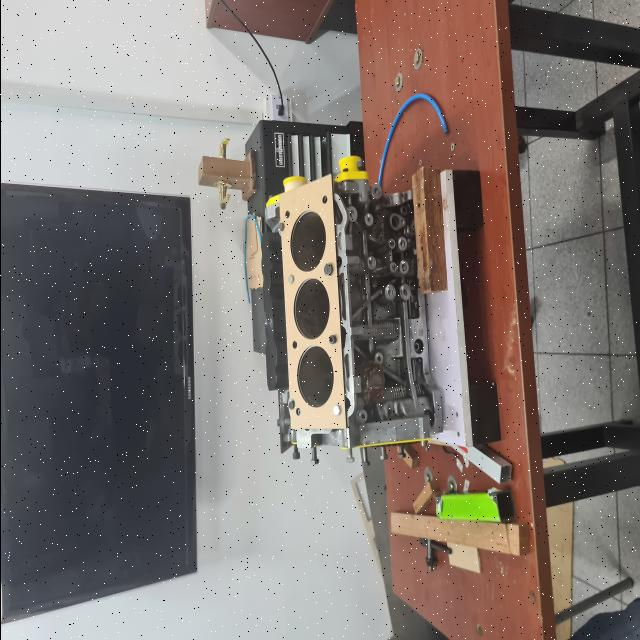vista1: (278, 175, 345, 430)
